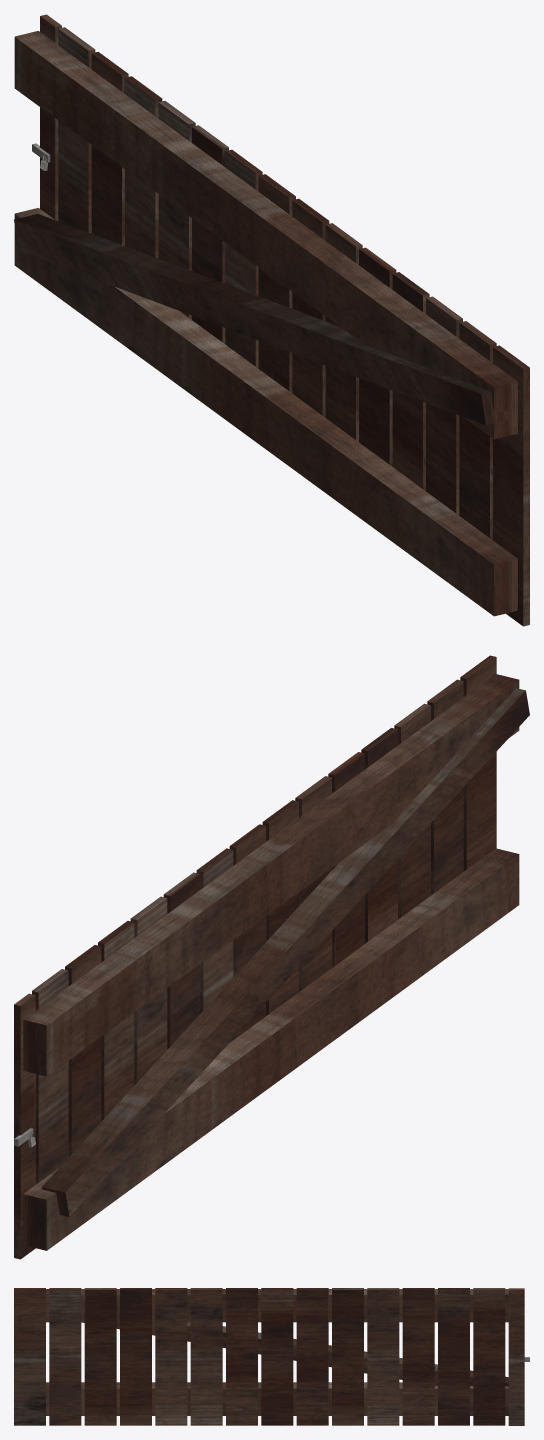
File: PValla1.obj
3 views of the same model, one above another, from view 1: azimuth 30°, elevation 25°; view 2: azimuth 150°, elevation 25°; view 3: azimuth 270°, elevation 25° (orthographic). The views are drawn at different scales.
Parts seen in each view (by area): view 1: Pvalla1; view 2: Pvalla1; view 3: Pvalla1.
Boxes of the visible parts, box(x1,y1,x2,y2) form: Pvalla1: box(14, 14, 529, 626); Pvalla1: box(14, 655, 529, 1259); Pvalla1: box(14, 1288, 529, 1425).
Size of the model in its own units: 0.2479 by 1.44 by 4.94.
2 materials, 2 textured.
